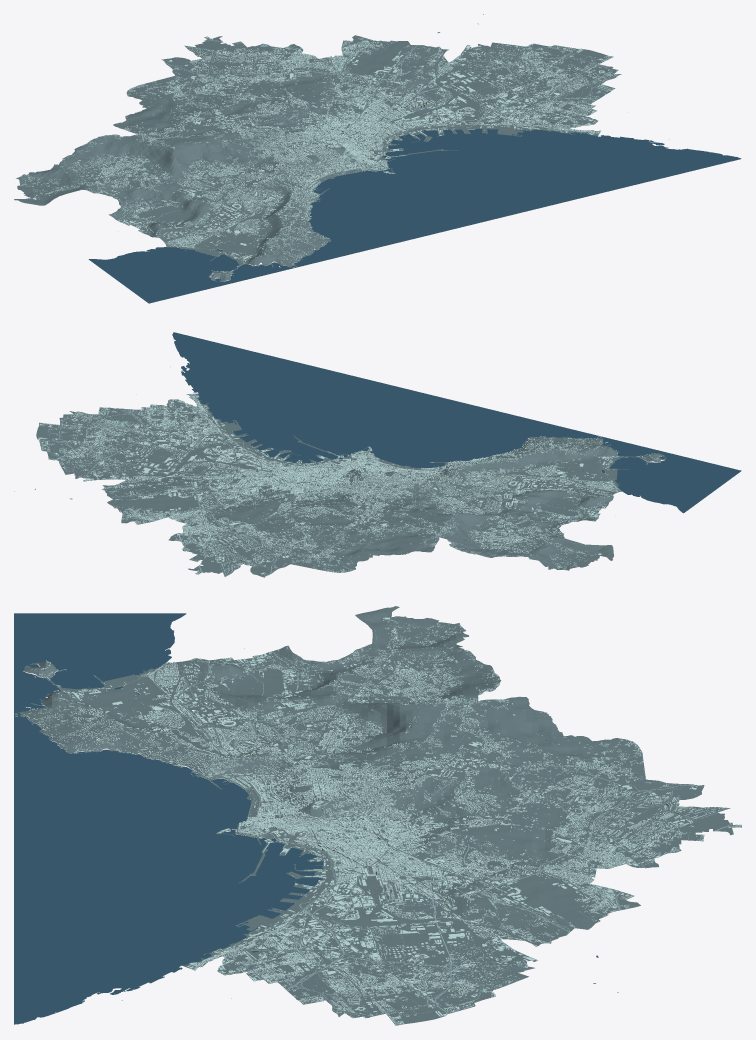
File: napoli.glb
The picture shows the model from 3 angles, top to bottom: view 1: azimuth 30°, elevation 25°; view 2: azimuth 150°, elevation 25°; view 3: azimuth 270°, elevation 25°; orthographic projection. The views are drawn at different scales.
Parts seen in each view (by area): view 1: Terreno_Napoli, Edifici_semplificati, Mare_e_acque, Strade_principali; view 2: Terreno_Napoli, Edifici_semplificati, Mare_e_acque, Strade_principali; view 3: Terreno_Napoli, Mare_e_acque, Edifici_semplificati, Strade_principali.
Part boxes in pixels (x1,y1,x2,y2): Terreno_Napoli: (14,35,621,281); Edifici_semplificati: (18,36,618,276); Mare_e_acque: (88,14,741,303); Strade_principali: (20,36,614,273); Terreno_Napoli: (36,393,665,577); Edifici_semplificati: (38,393,660,575); Mare_e_acque: (14,332,741,513); Strade_principali: (39,394,616,577); Terreno_Napoli: (14,606,741,1025); Mare_e_acque: (14,613,618,1024); Edifici_semplificati: (15,617,741,1025); Strade_principali: (34,620,741,1025).
Bounding box in the file's own units: 18686 × 464 × 13823.
